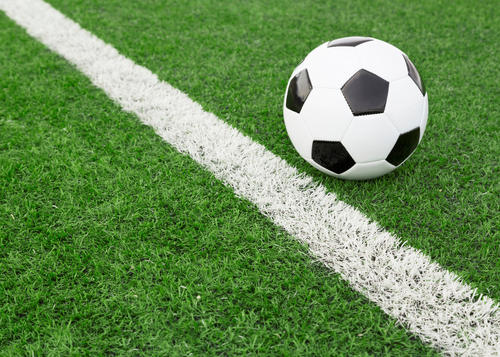football: (281, 36, 436, 181)
